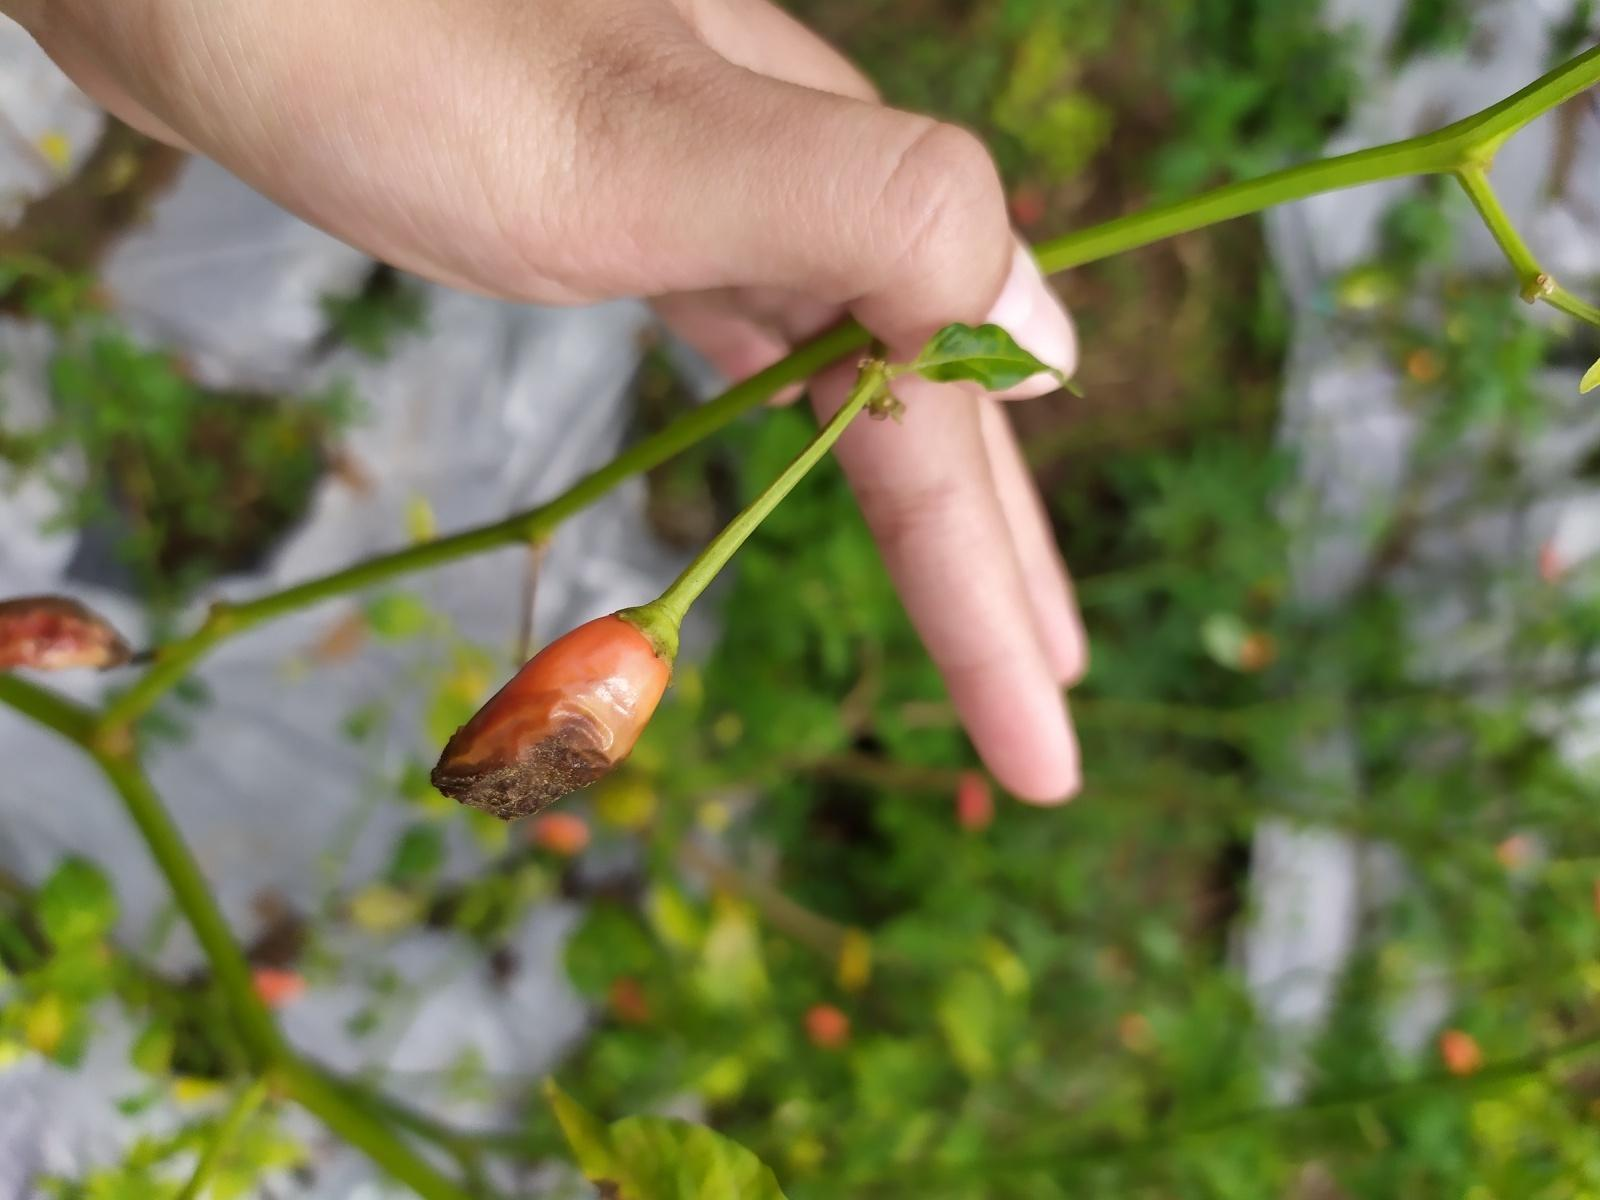antraknosa: (430, 610, 671, 823)
